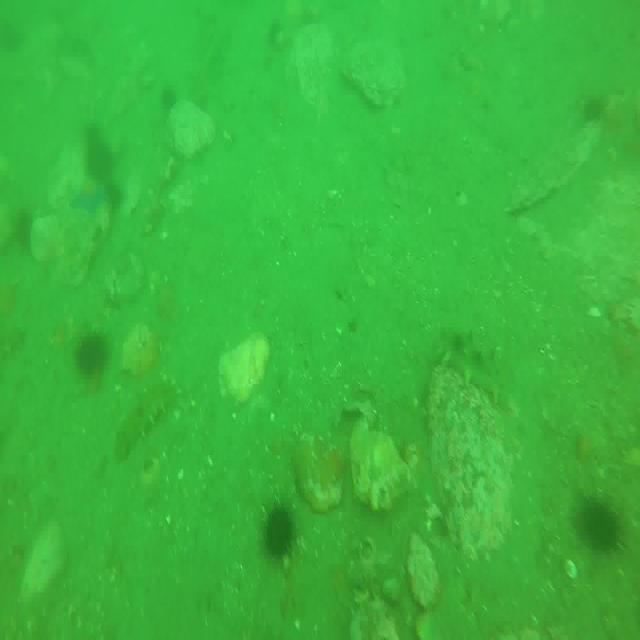echinus: (576, 498, 620, 556), (261, 503, 298, 554), (78, 328, 108, 382), (88, 126, 110, 172)
holothurian: (439, 321, 509, 404), (116, 382, 174, 461)
starfish: (70, 175, 108, 218)
